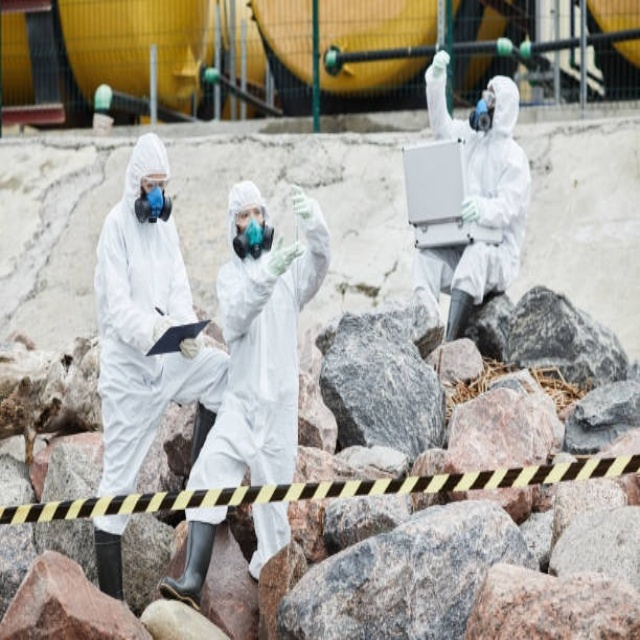Gafas: (469, 102, 492, 132), (235, 208, 263, 223), (143, 177, 169, 190), (484, 86, 496, 108)
Guantes: (265, 235, 306, 268), (288, 180, 313, 220), (461, 188, 482, 223), (427, 49, 453, 77), (179, 336, 200, 361)
Mascara: (243, 217, 264, 248), (145, 186, 164, 218)
